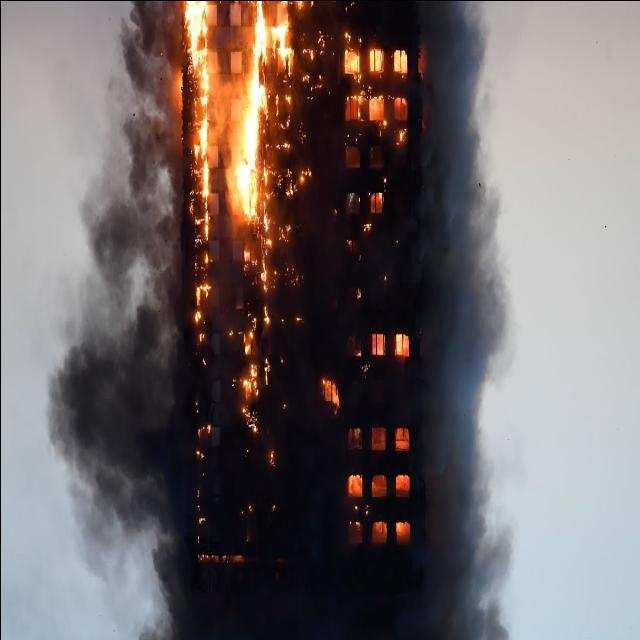Fire: (179, 0, 288, 270)
